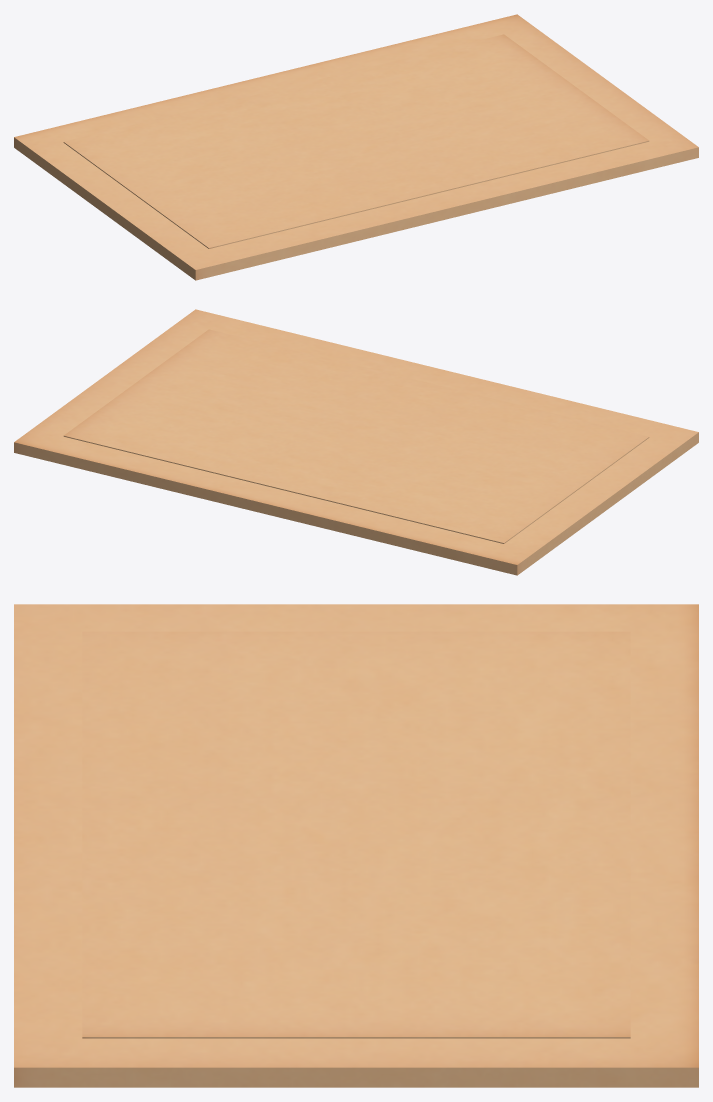
File: Doormat.fbx
3 views of the same model, one above another, from view 1: azimuth 30°, elevation 25°; view 2: azimuth 150°, elevation 25°; view 3: azimuth 270°, elevation 25° (orthographic). The views are drawn at different scales.
Visible parts, largest first — view 1: Doormat; view 2: Doormat; view 3: Doormat.
Boxes of the visible parts, x1,y1,x2,y2 form: Doormat: [14, 14, 698, 280]; Doormat: [14, 309, 698, 575]; Doormat: [14, 604, 698, 1087].
Bounding box in the file's own units: 0.8 × 0.0175 × 0.5.
